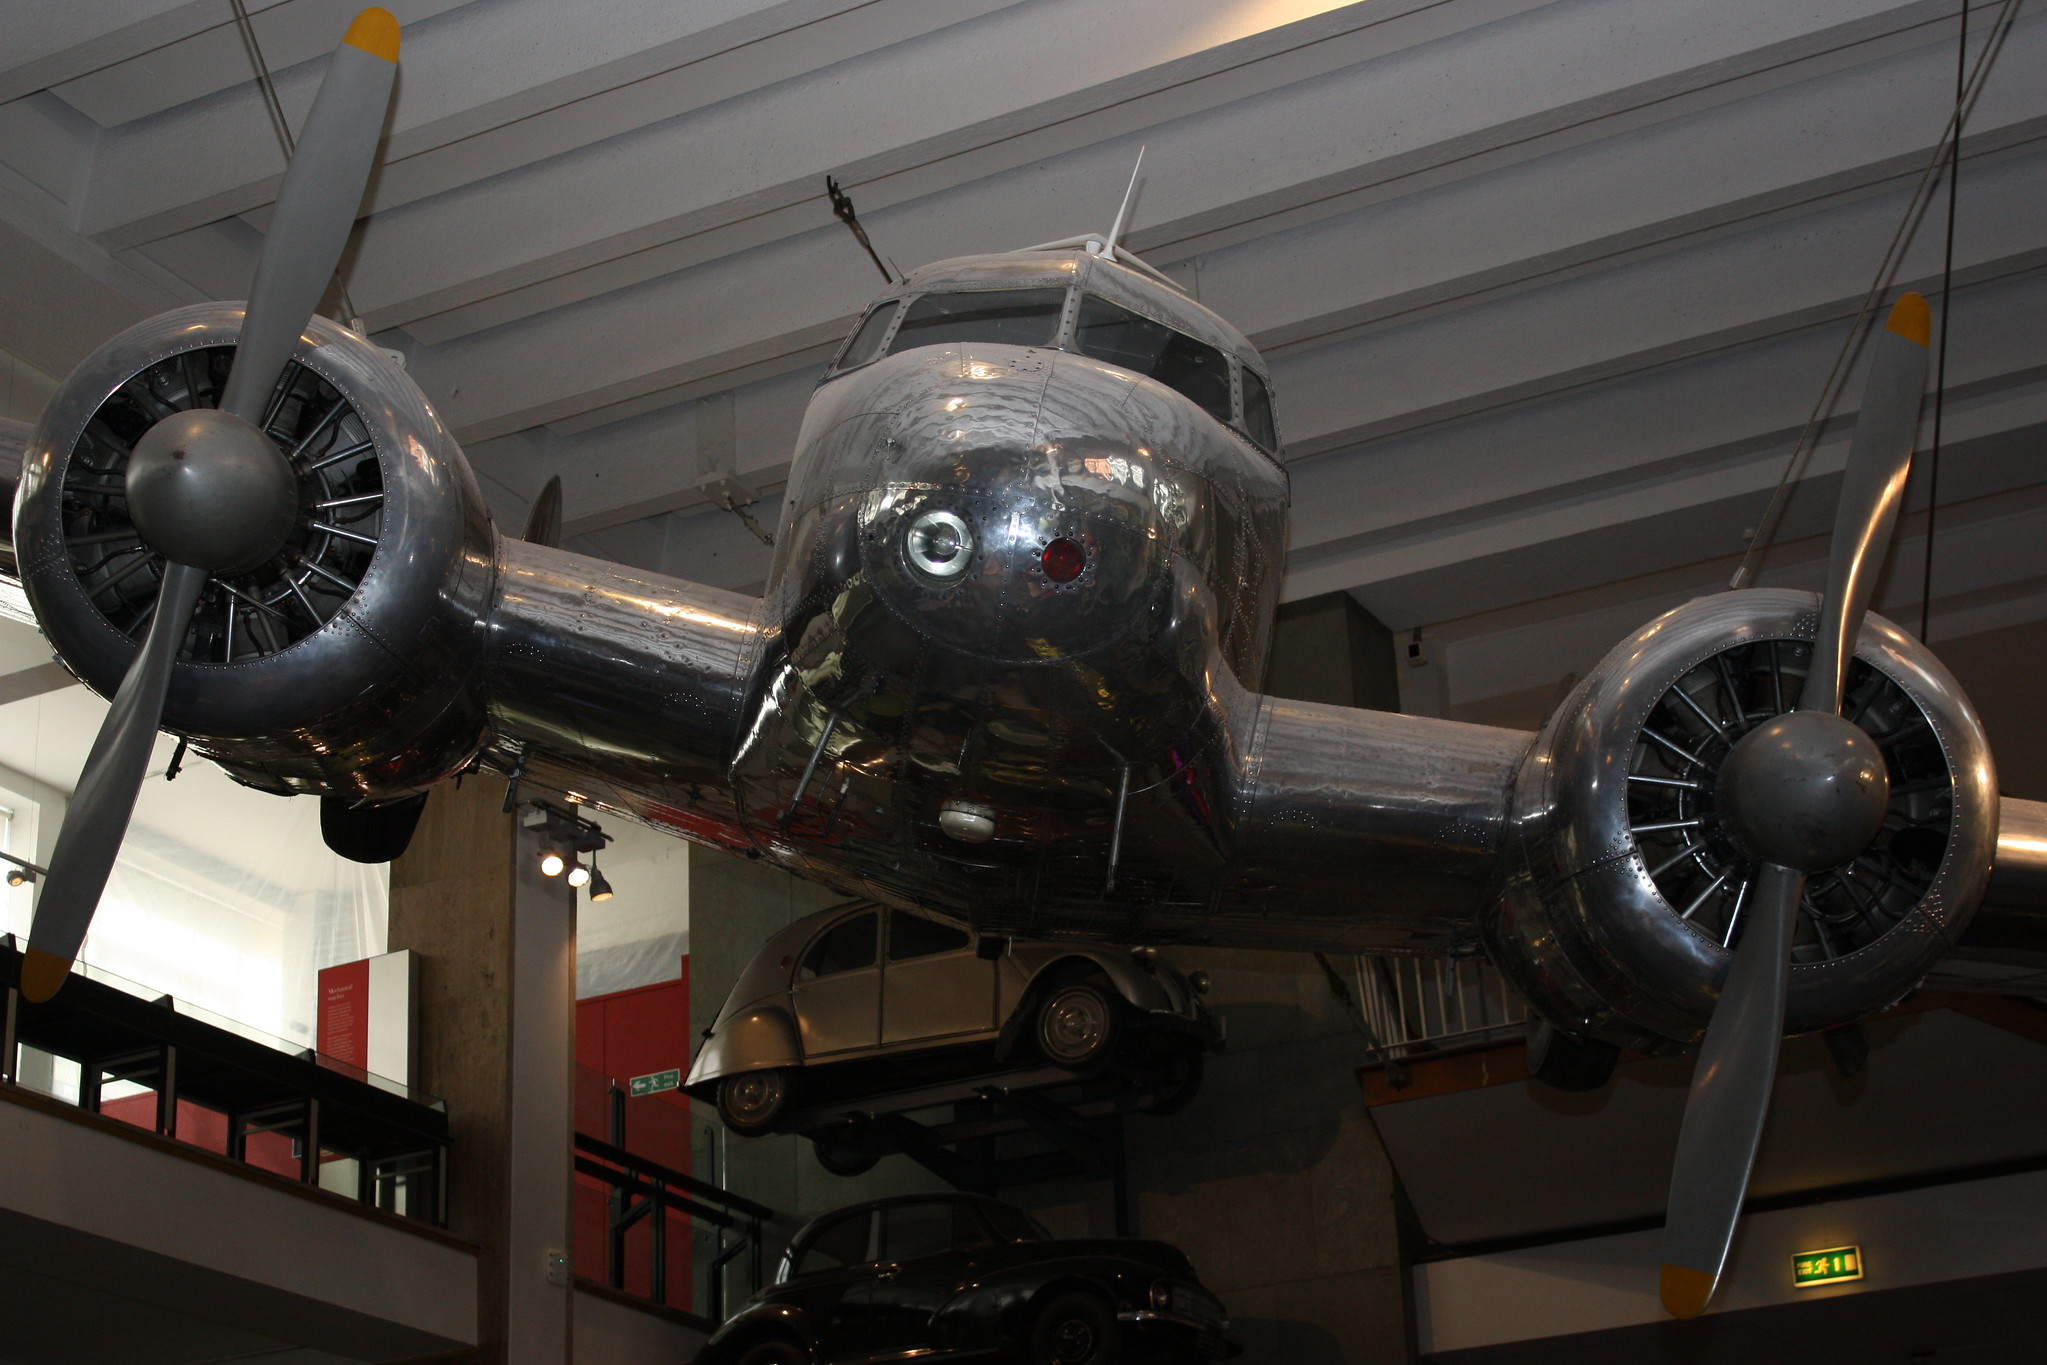aeroplane: (21, 43, 1994, 1261)
car: (717, 902, 1205, 1118)
